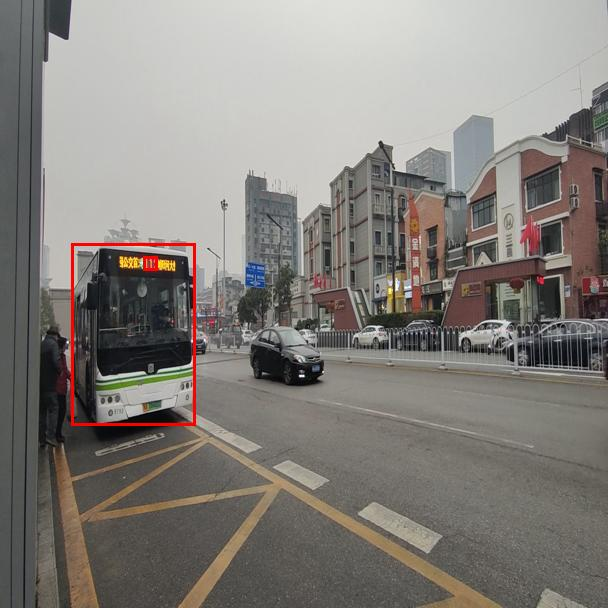bus: (71, 243, 195, 425)
screen: (143, 256, 157, 270)
